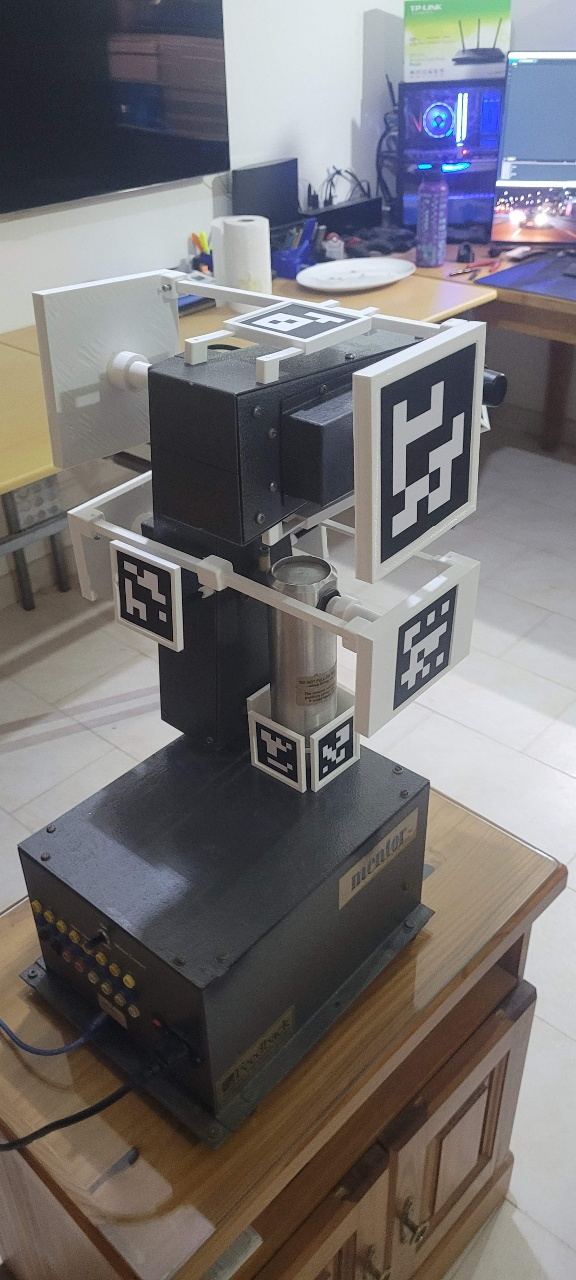Robot: (39, 255, 553, 1009)
